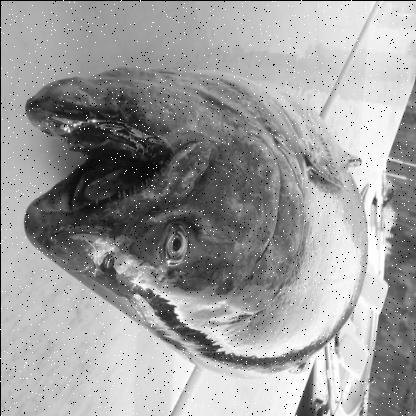fish: (21, 58, 371, 378)
